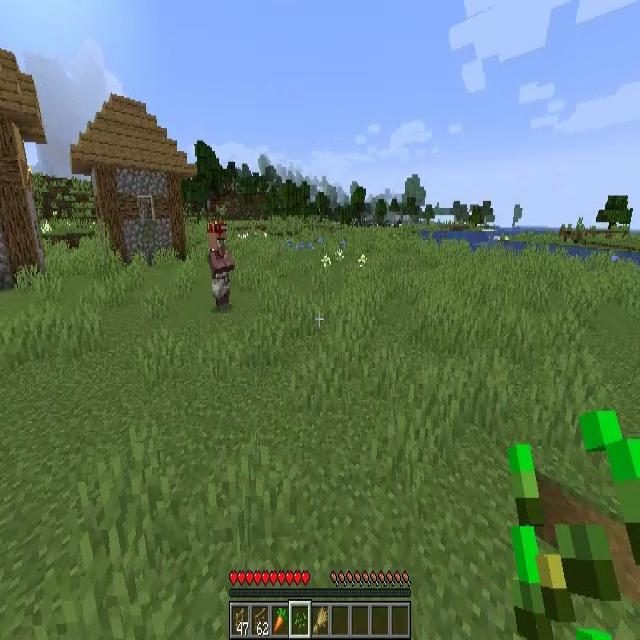flower: (357, 255, 365, 268)
people: (207, 225, 235, 308)
